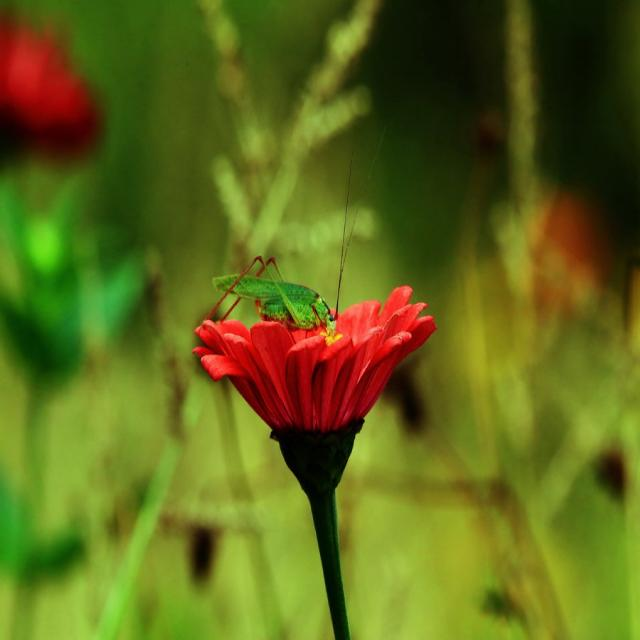ZhaMeng: (194, 248, 352, 344)
